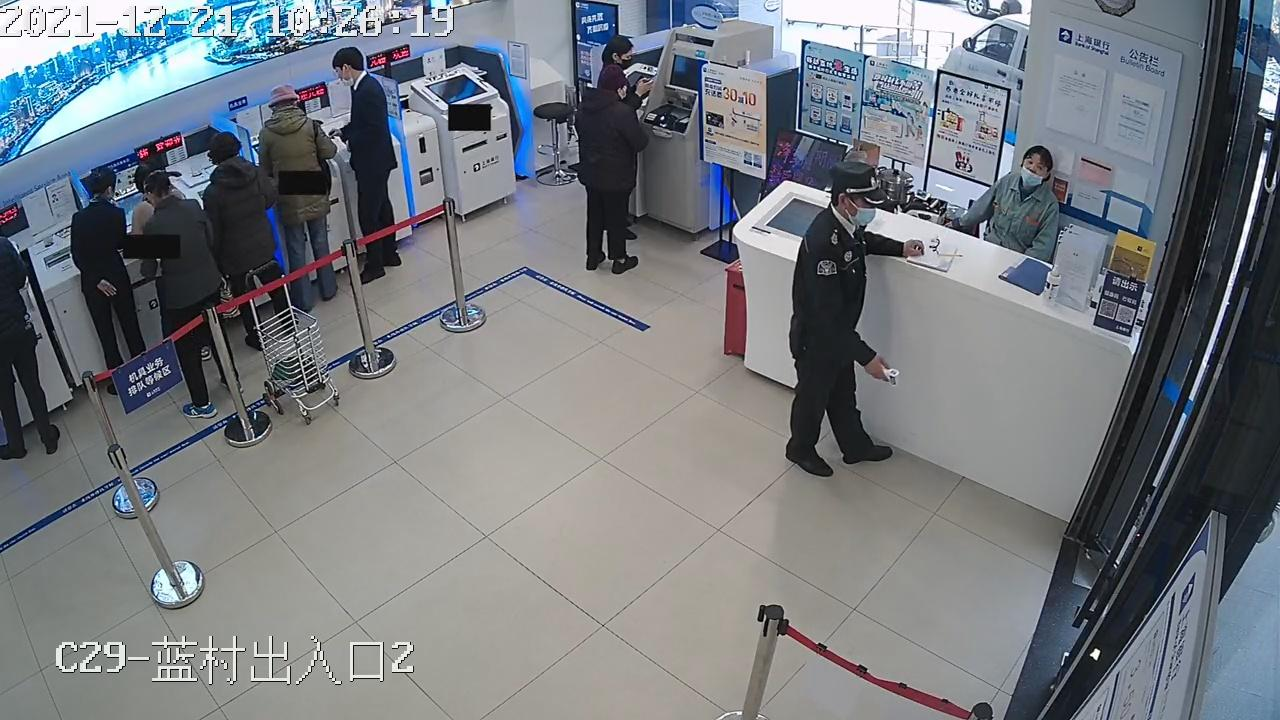person: (785, 161, 925, 476), (140, 170, 233, 414), (202, 130, 295, 353), (257, 84, 341, 308), (329, 43, 402, 283), (69, 167, 147, 381), (573, 65, 652, 274), (0, 215, 62, 456), (971, 143, 1061, 259), (130, 155, 164, 314), (597, 35, 637, 104), (597, 36, 635, 103)
